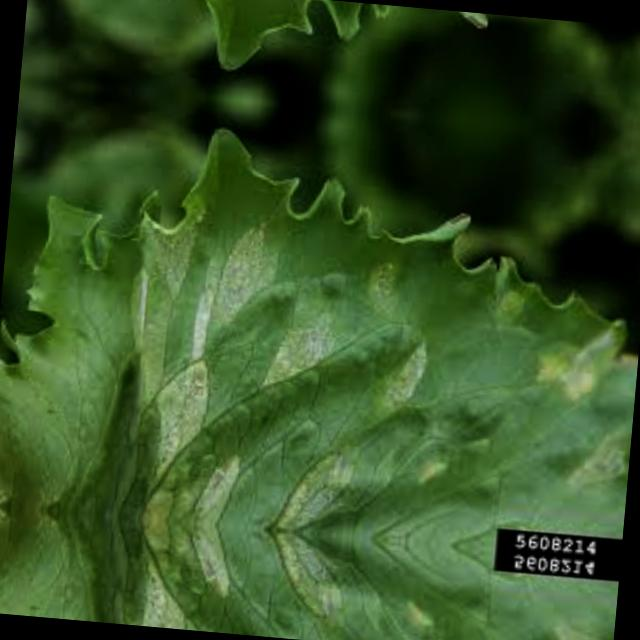Downy_mildew: (21, 132, 634, 543), (9, 521, 600, 640), (60, 0, 640, 84)
